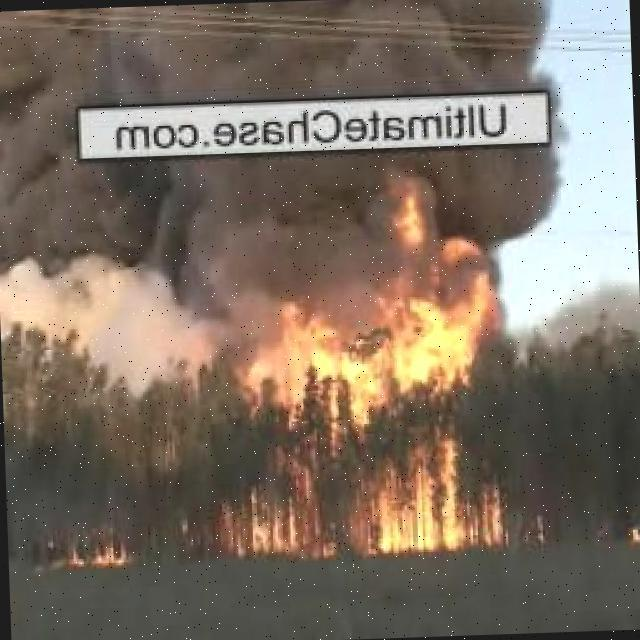Fire: (192, 223, 515, 559), (58, 527, 132, 566)
